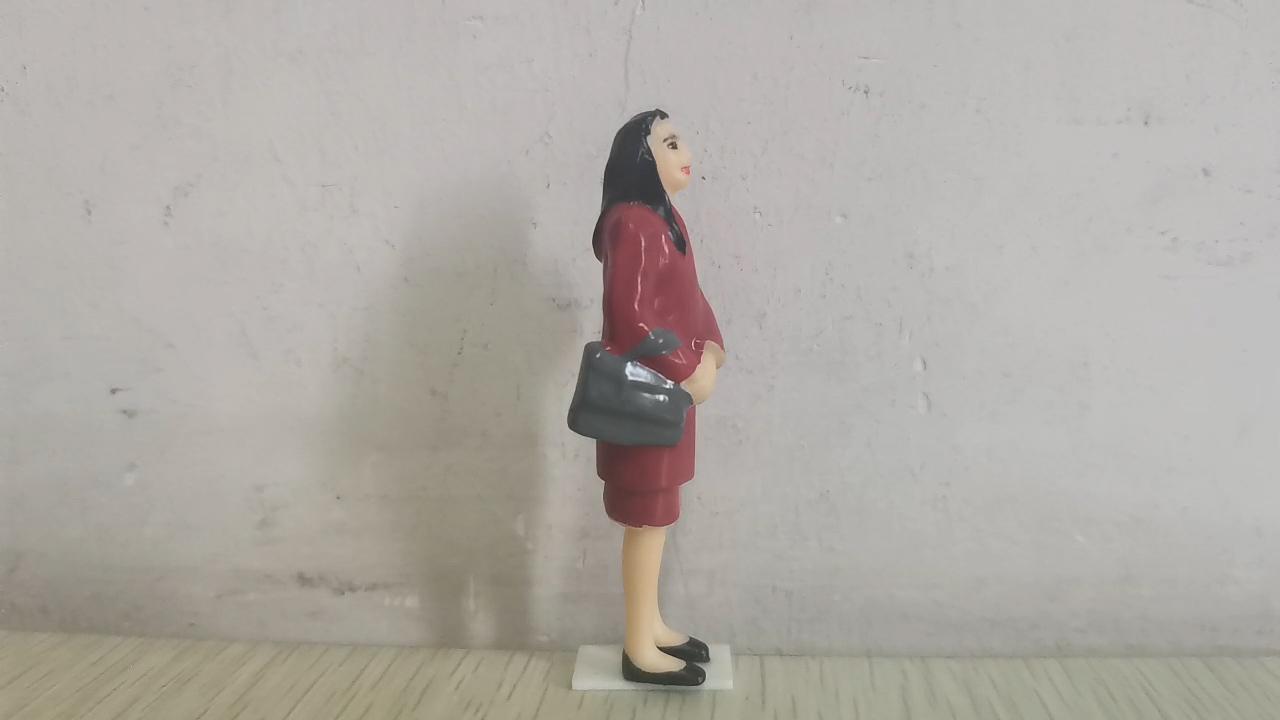person: (563, 105, 731, 688)
